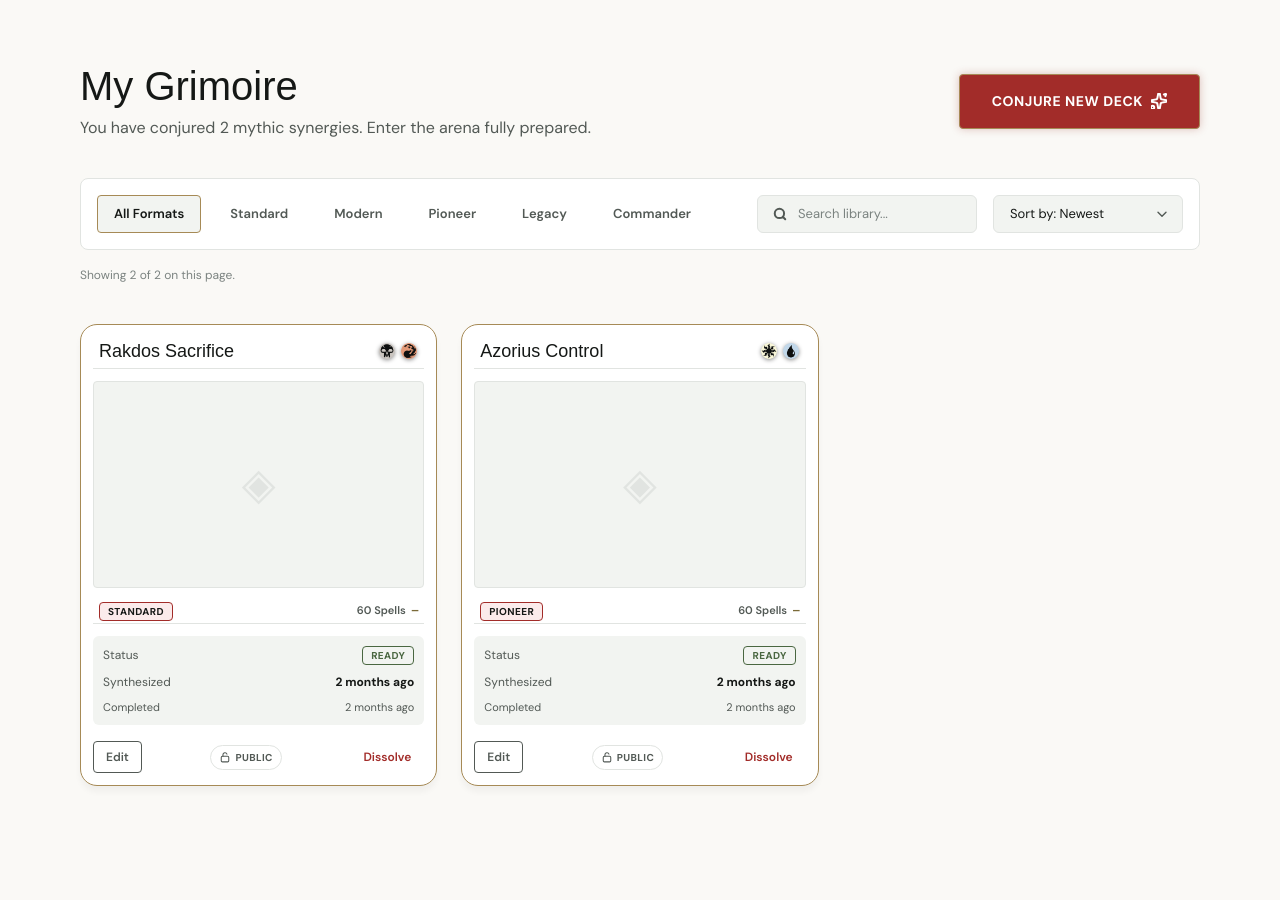
Test: LibraryPage › filters the loaded page by format and by free text
Expected: the heading "Rakdos Sacrifice" is shown, [99,340,234,360]
Click the button "pioneer". click: {"x": 452, "y": 214}
box: [412,195,493,232]
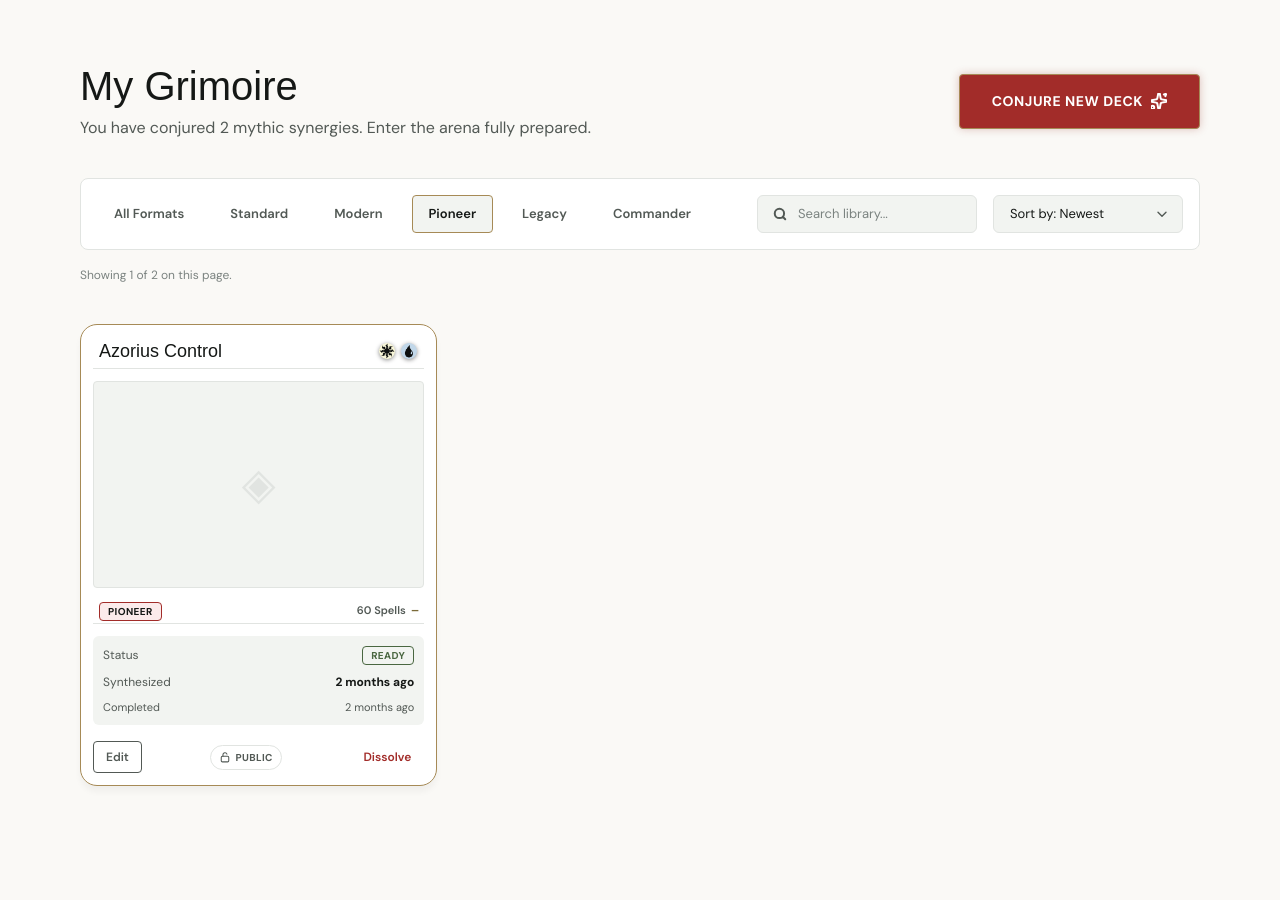
Expected: the heading "Azorius Control" is shown, [99,340,222,360]
Expected: the link "Rakdos Sacrifice" is gone
Click the button "All Formats". click: {"x": 149, "y": 214}
box: [97,195,201,232]
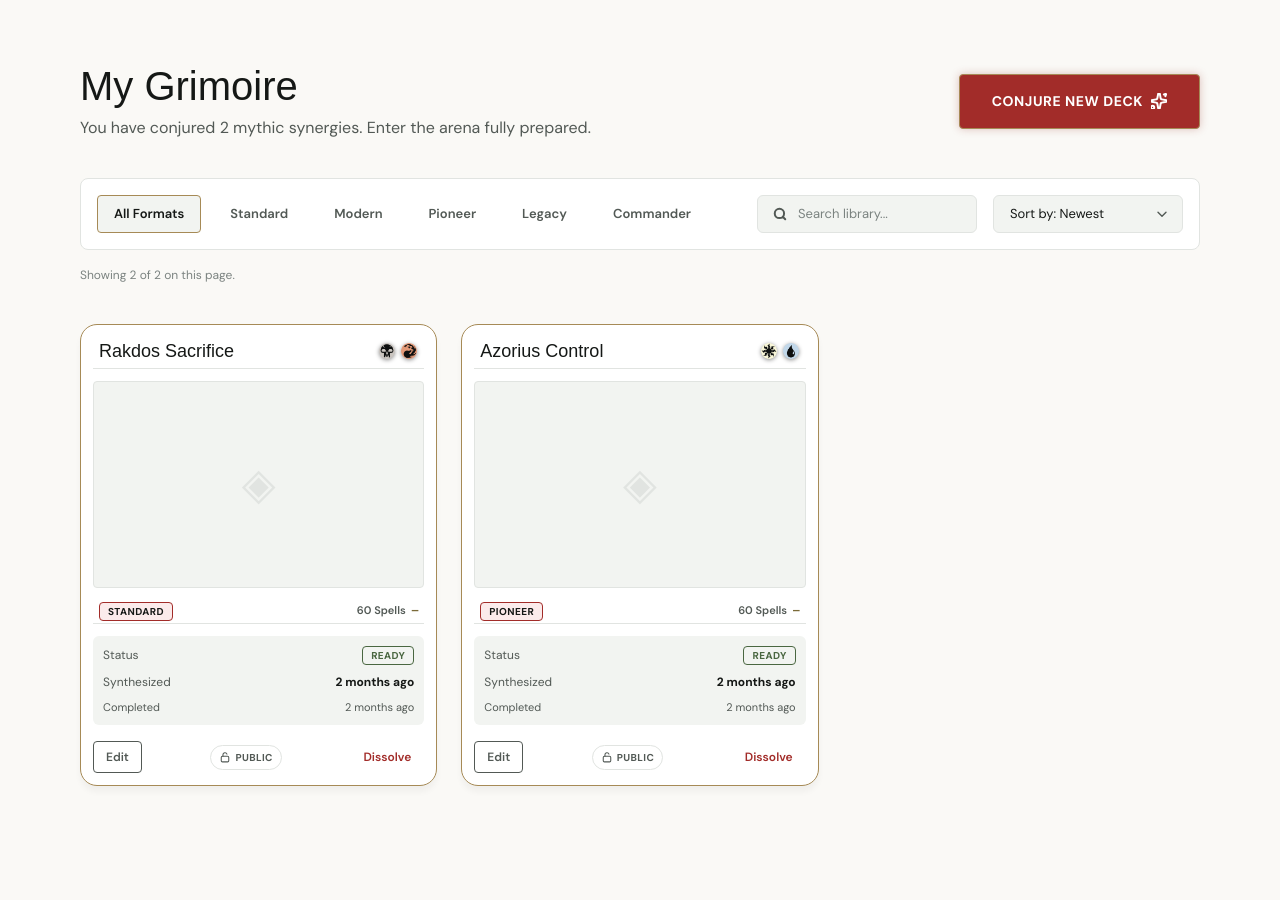
Type "rakdos" into the search field named "Search the decks on this page". click: {"x": 867, "y": 214}
box: [757,195,977,232]
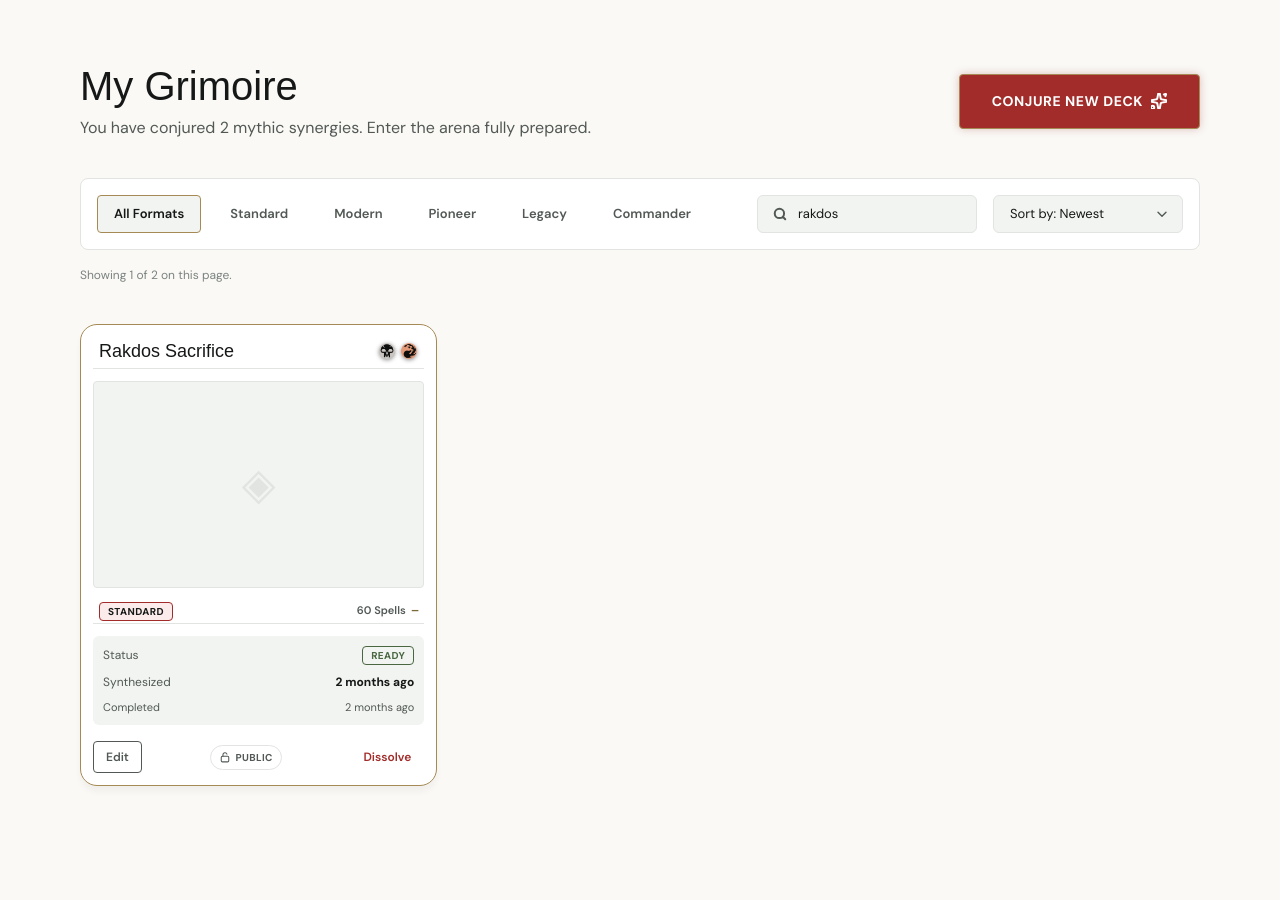
Expected: the heading "Rakdos Sacrifice" is shown, [99,340,234,360]
Expected: the link "Azorius Control" is gone
